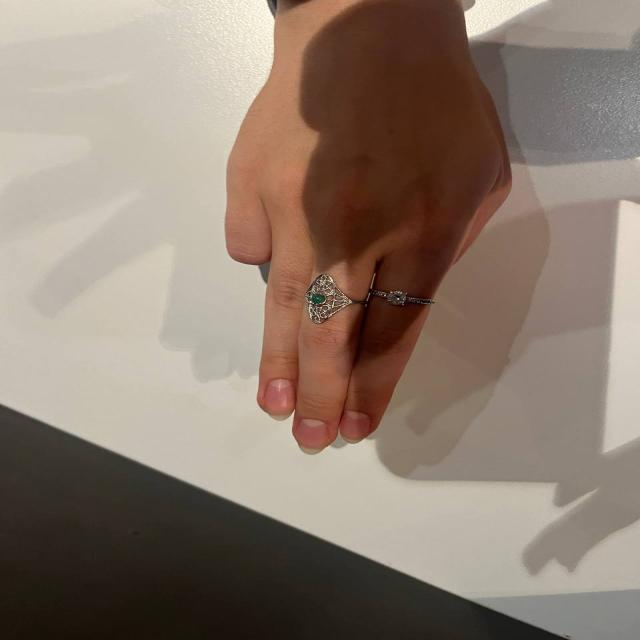t: (205, 27, 524, 465)
